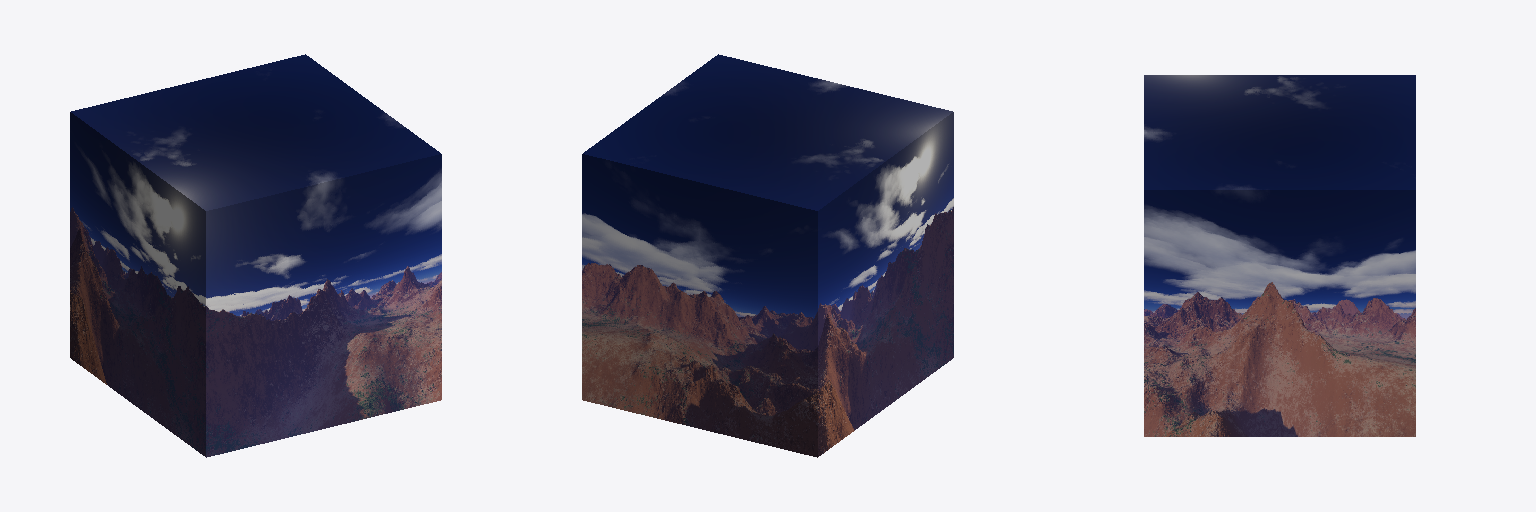
The picture shows the model from 3 angles: view 1: azimuth 30°, elevation 25°; view 2: azimuth 150°, elevation 25°; view 3: azimuth 270°, elevation 25°; orthographic projection.
Size of the model in its own units: 1 by 1 by 1.
Materials: 6 (6 with a texture image).